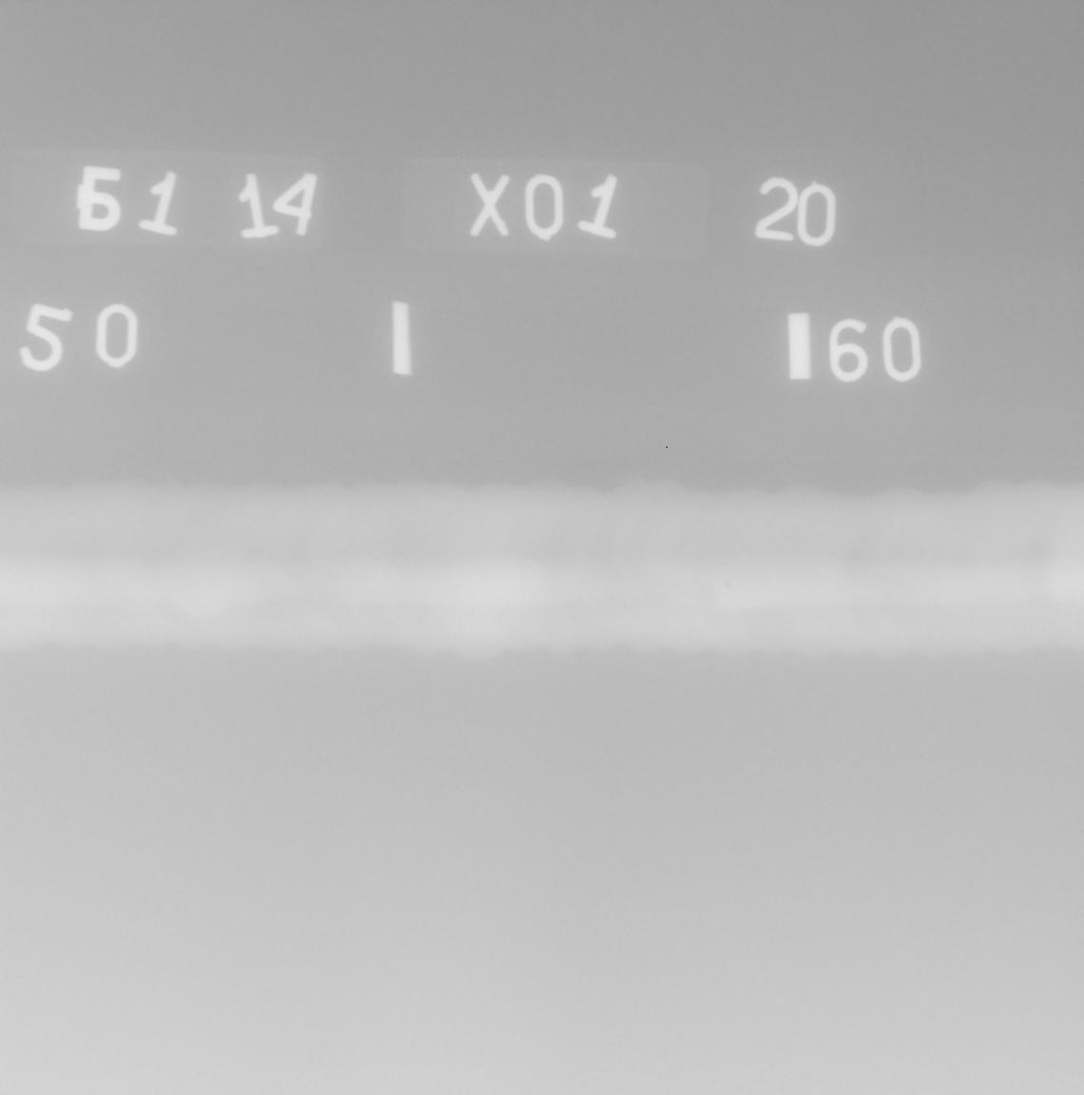Pore/Porosity: (724, 581, 730, 587)
